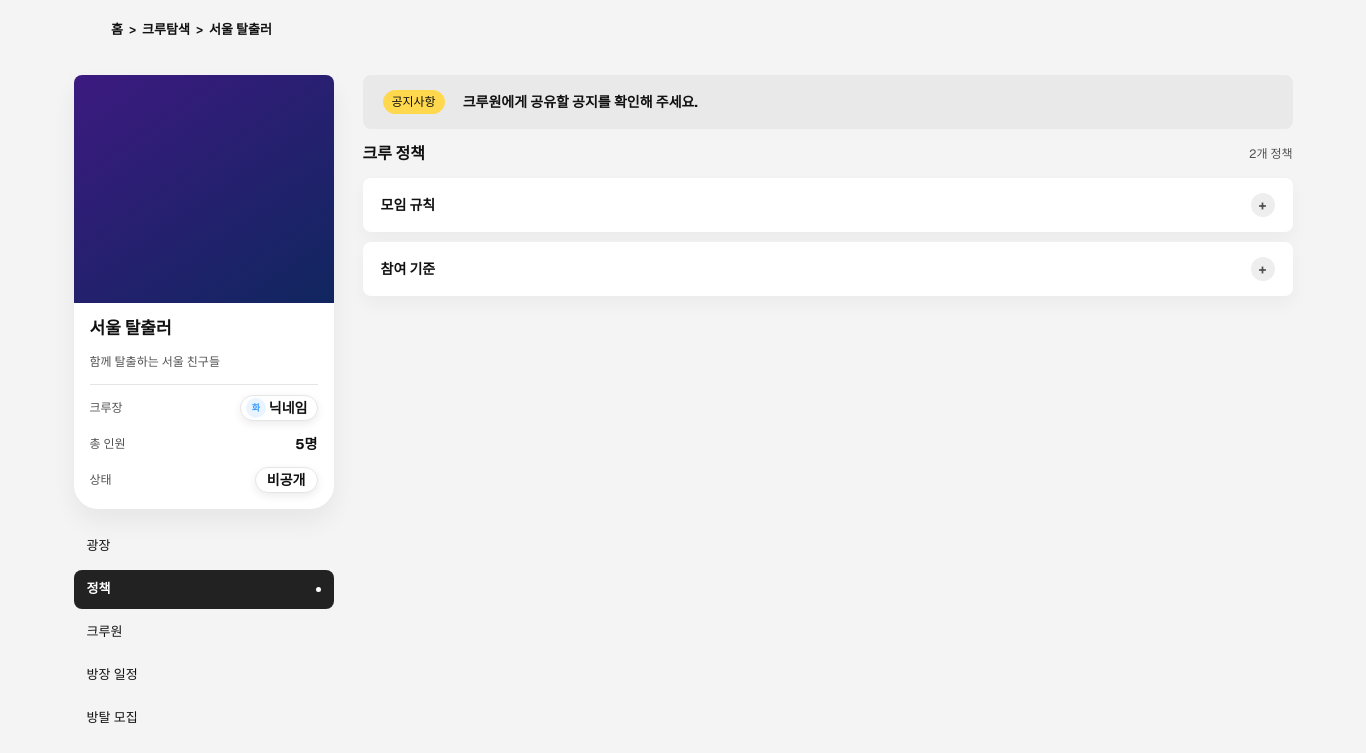
Test case: CrewPoliciesPage › renders accordion policy cards for joined crew members
Check: the heading "서울 탈출러" is shown, box [90, 317, 172, 339]
Check: the navigation bar named "현재 위치" reads "홈 > 크루탐색 > 서울 탈출러", box [111, 21, 272, 38]
Click the button "모임 규칙 +".
click(408, 205)  # box [362, 178, 1292, 232]
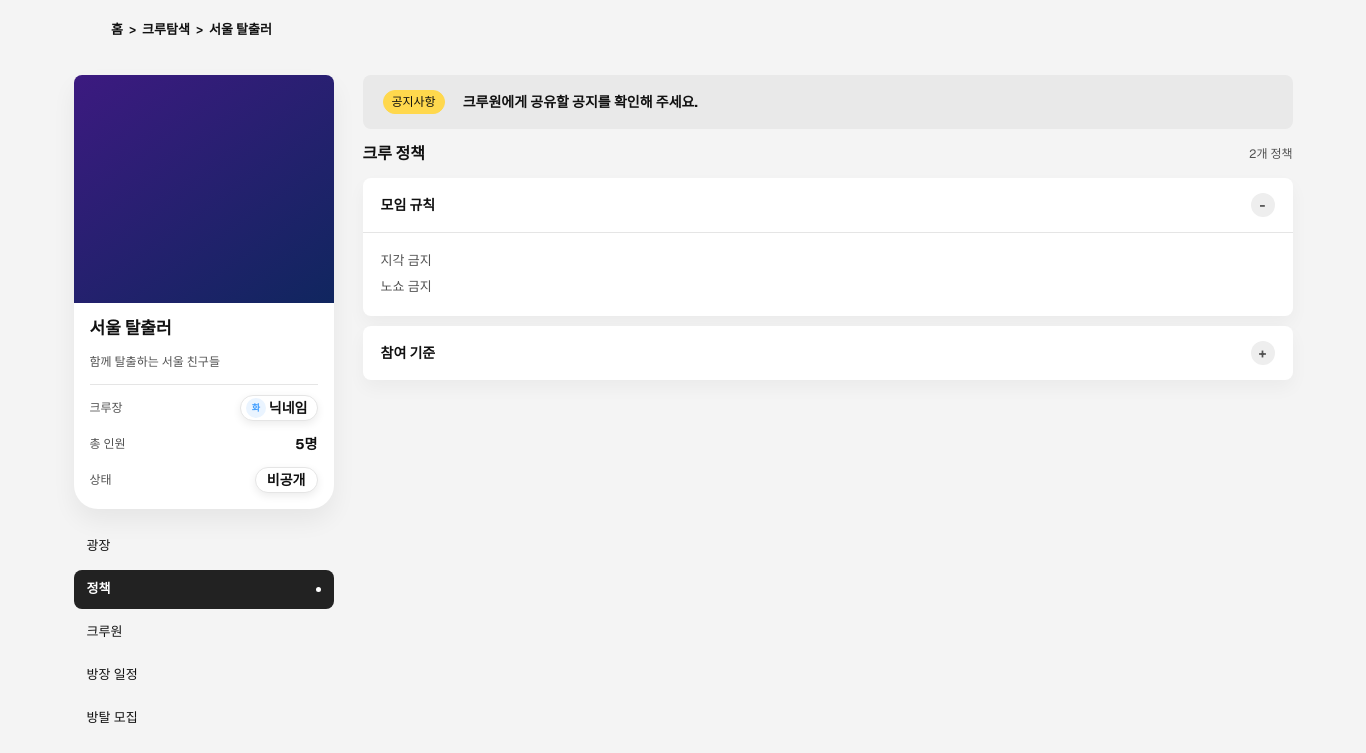
Check: the text "지각 금지" is shown, box [380, 252, 432, 269]
Check: the text "노쇼 금지" is shown, box [380, 278, 432, 295]
Click the button "모임 규칙 -".
click(408, 205)  # box [362, 178, 1292, 232]
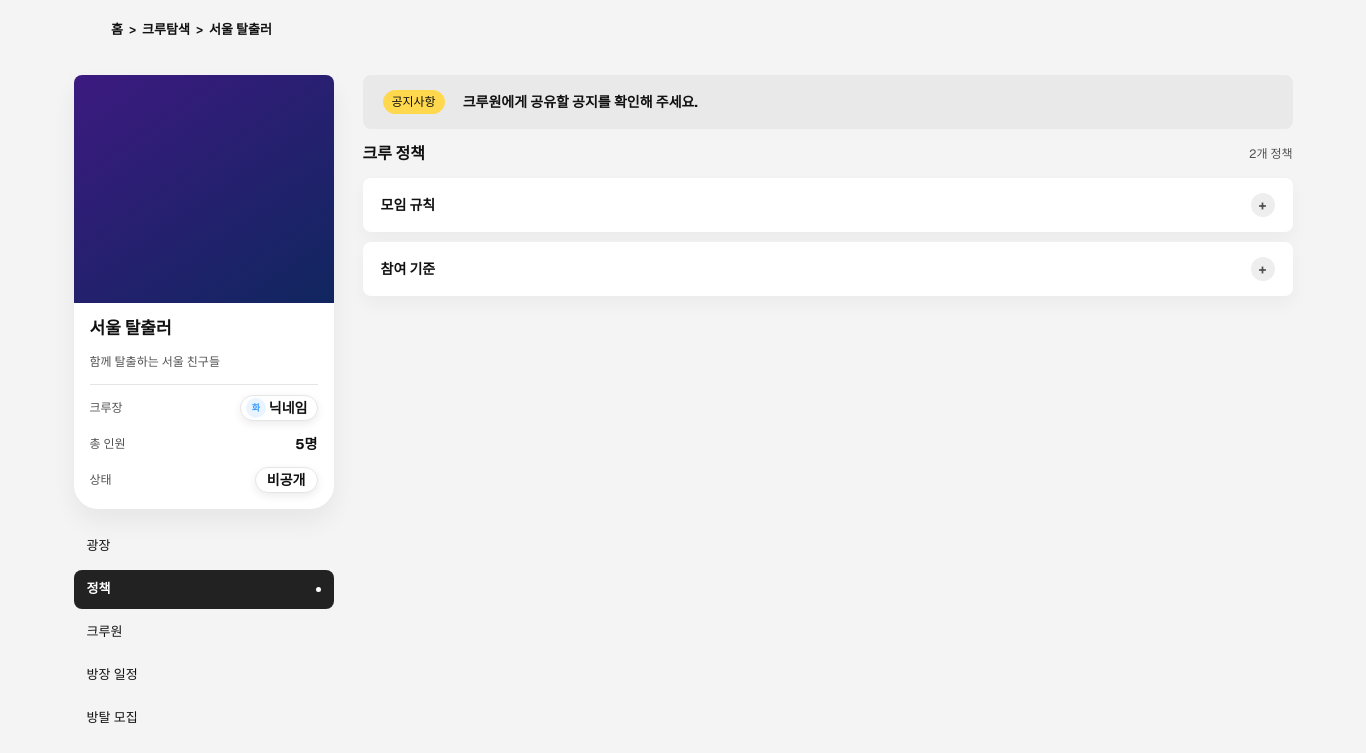
Check: the text "지각 금지" is gone
